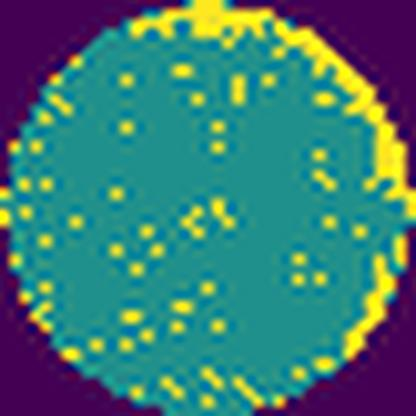Edge-Loc: (274, 15, 416, 221), (338, 246, 406, 361), (130, 0, 277, 52)
